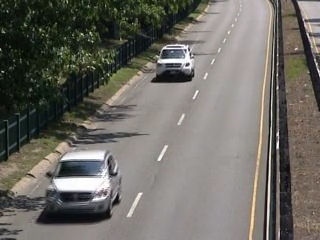car: (44, 147, 126, 221), (152, 43, 199, 84)
